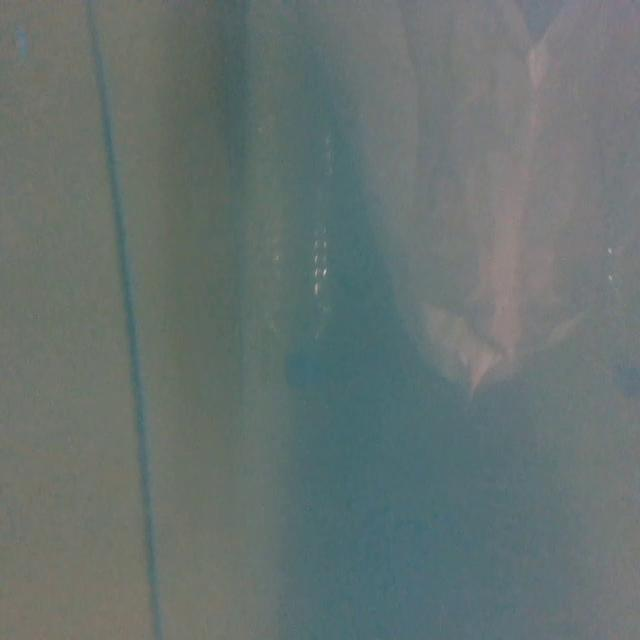plastic bags: (330, 0, 558, 405)
plastic bottle: (251, 86, 345, 408)
